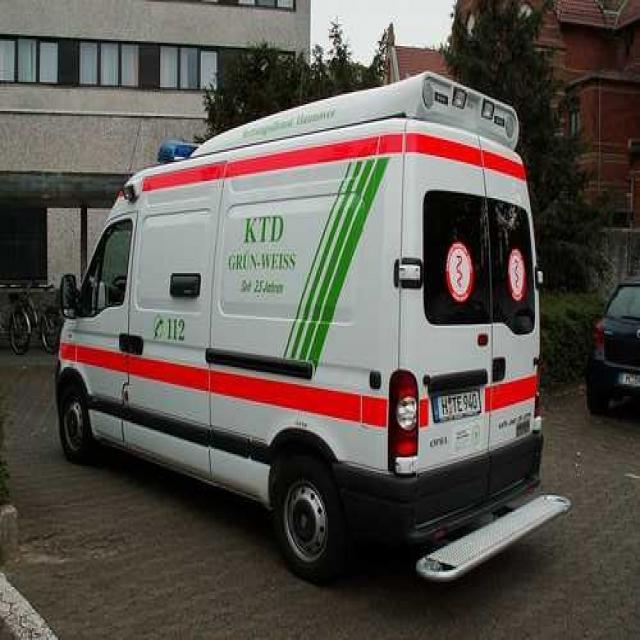emergency-vehicle: (42, 70, 572, 577)
